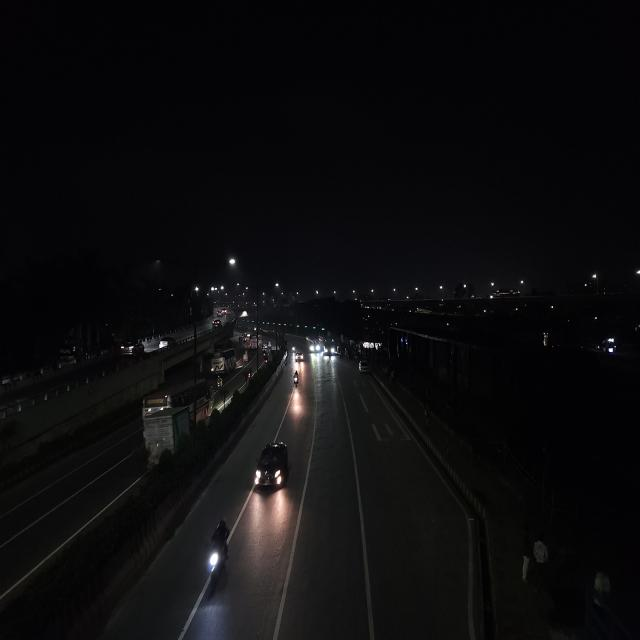bus: (139, 371, 219, 467), (209, 347, 237, 376), (305, 332, 321, 355), (322, 335, 336, 359), (249, 331, 260, 351)
car: (250, 438, 290, 500), (119, 339, 146, 358), (356, 358, 370, 377), (158, 336, 177, 350), (210, 318, 224, 332), (295, 351, 304, 362)
motorcycle: (200, 516, 231, 592), (292, 370, 300, 390), (245, 366, 255, 382), (264, 354, 270, 367), (291, 342, 296, 352)
rickshaw: (241, 354, 250, 364)
